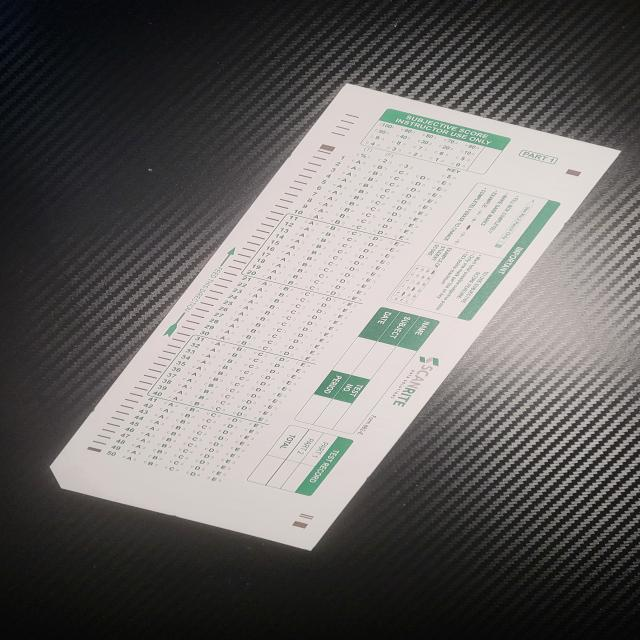scantron: (48, 81, 626, 551)
